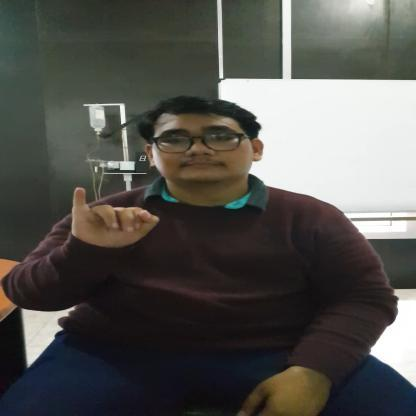I: (61, 186, 159, 250)
